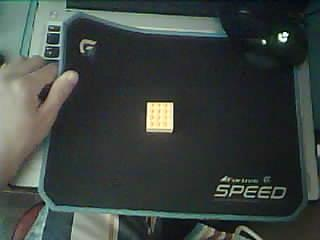lego: (146, 101, 174, 132)
